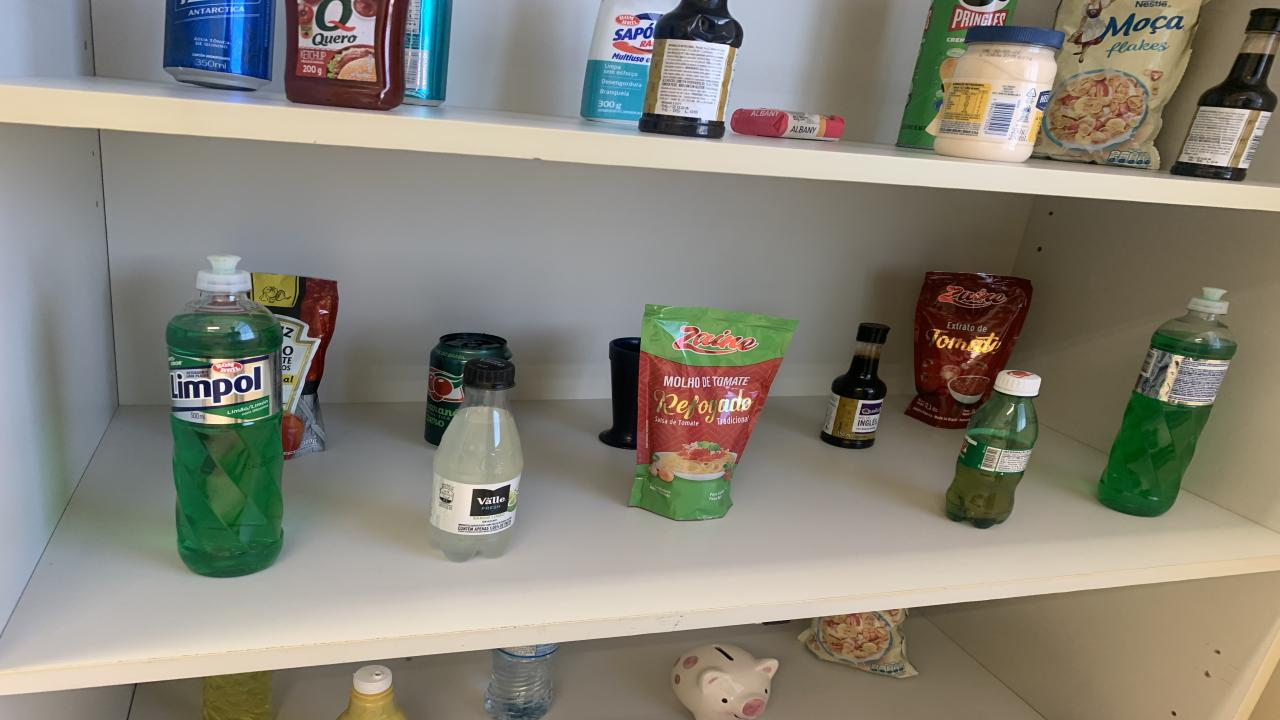Cleaner-Cleanup_Items: (580, 0, 678, 126), (402, 0, 452, 107)
Detergent-Cleanup_Items: (165, 255, 282, 578), (1098, 289, 1238, 516), (202, 671, 272, 720)
English_Sauce-Pantry_Items: (1170, 8, 1280, 180), (638, 0, 742, 139), (820, 322, 890, 448)
Flakes-Snacks: (1035, 0, 1202, 171), (798, 609, 918, 679)
Guarana-Drinks: (945, 369, 1040, 529)
Guarana_Can-Drinks: (425, 332, 512, 446)
Ketchup-Pantry_Items: (285, 0, 408, 111)
Mayonnaise-Pantry_Items: (932, 26, 1065, 161)
Mustard-Pantry_Items: (338, 666, 408, 720)
Pig_Safe-Miscellaneous: (672, 645, 778, 720)
Pringles-Snacks: (898, 0, 1018, 150)
Soap-Cleanup_Items: (730, 109, 845, 141)
Soda-Drinks: (428, 358, 522, 562)
Tomato_Sauce-Pantry_Items: (630, 306, 798, 519), (905, 272, 1032, 429), (250, 274, 338, 459)
Tonic-Drinks: (162, 0, 275, 90)
Water_Bottle-Drinks: (485, 643, 558, 720)
